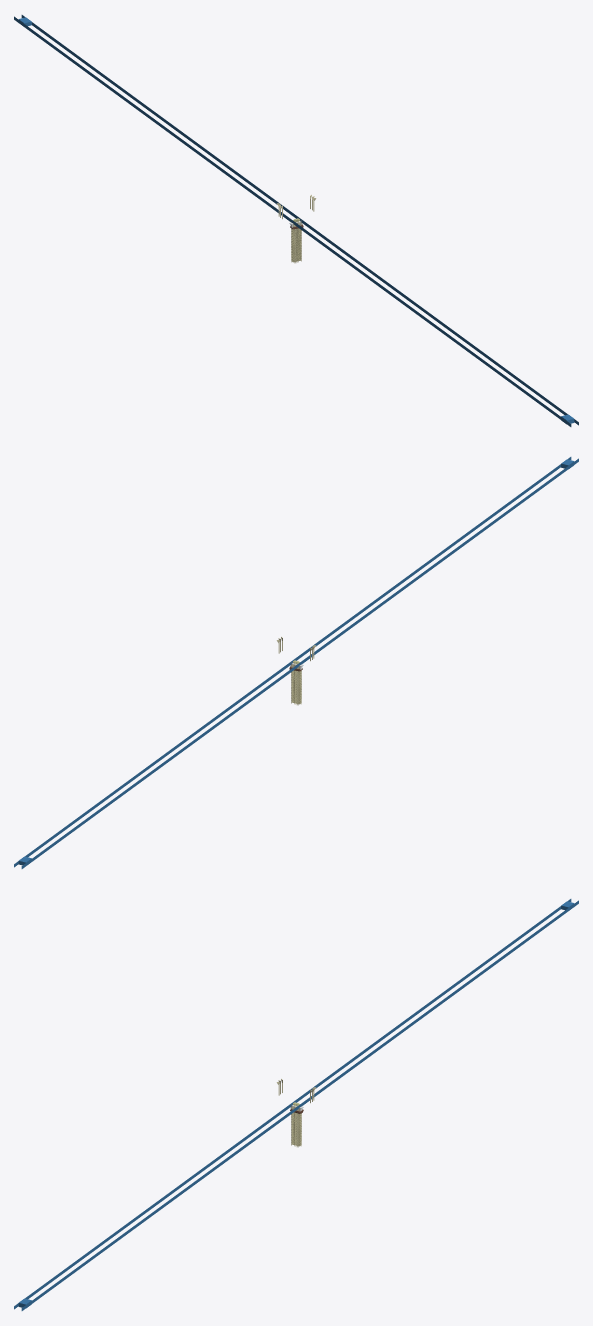
Rendered from sls-dubai.glb.
3 renders of one model, top to bottom at view 1: azimuth 30°, elevation 25°; view 2: azimuth 150°, elevation 25°; view 3: azimuth 330°, elevation 25°, orthographic.
Parts seen in each view (by area): view 1: Object_25; view 2: Object_25; view 3: Object_25.
Boxes of the visible parts, left/top/right/bottom form: Object_25: left=14, top=15, right=578, bottom=426; Object_25: left=14, top=457, right=578, bottom=868; Object_25: left=14, top=899, right=578, bottom=1310.
Size of the model in its own units: 7.2 by 11.63 by 191.
